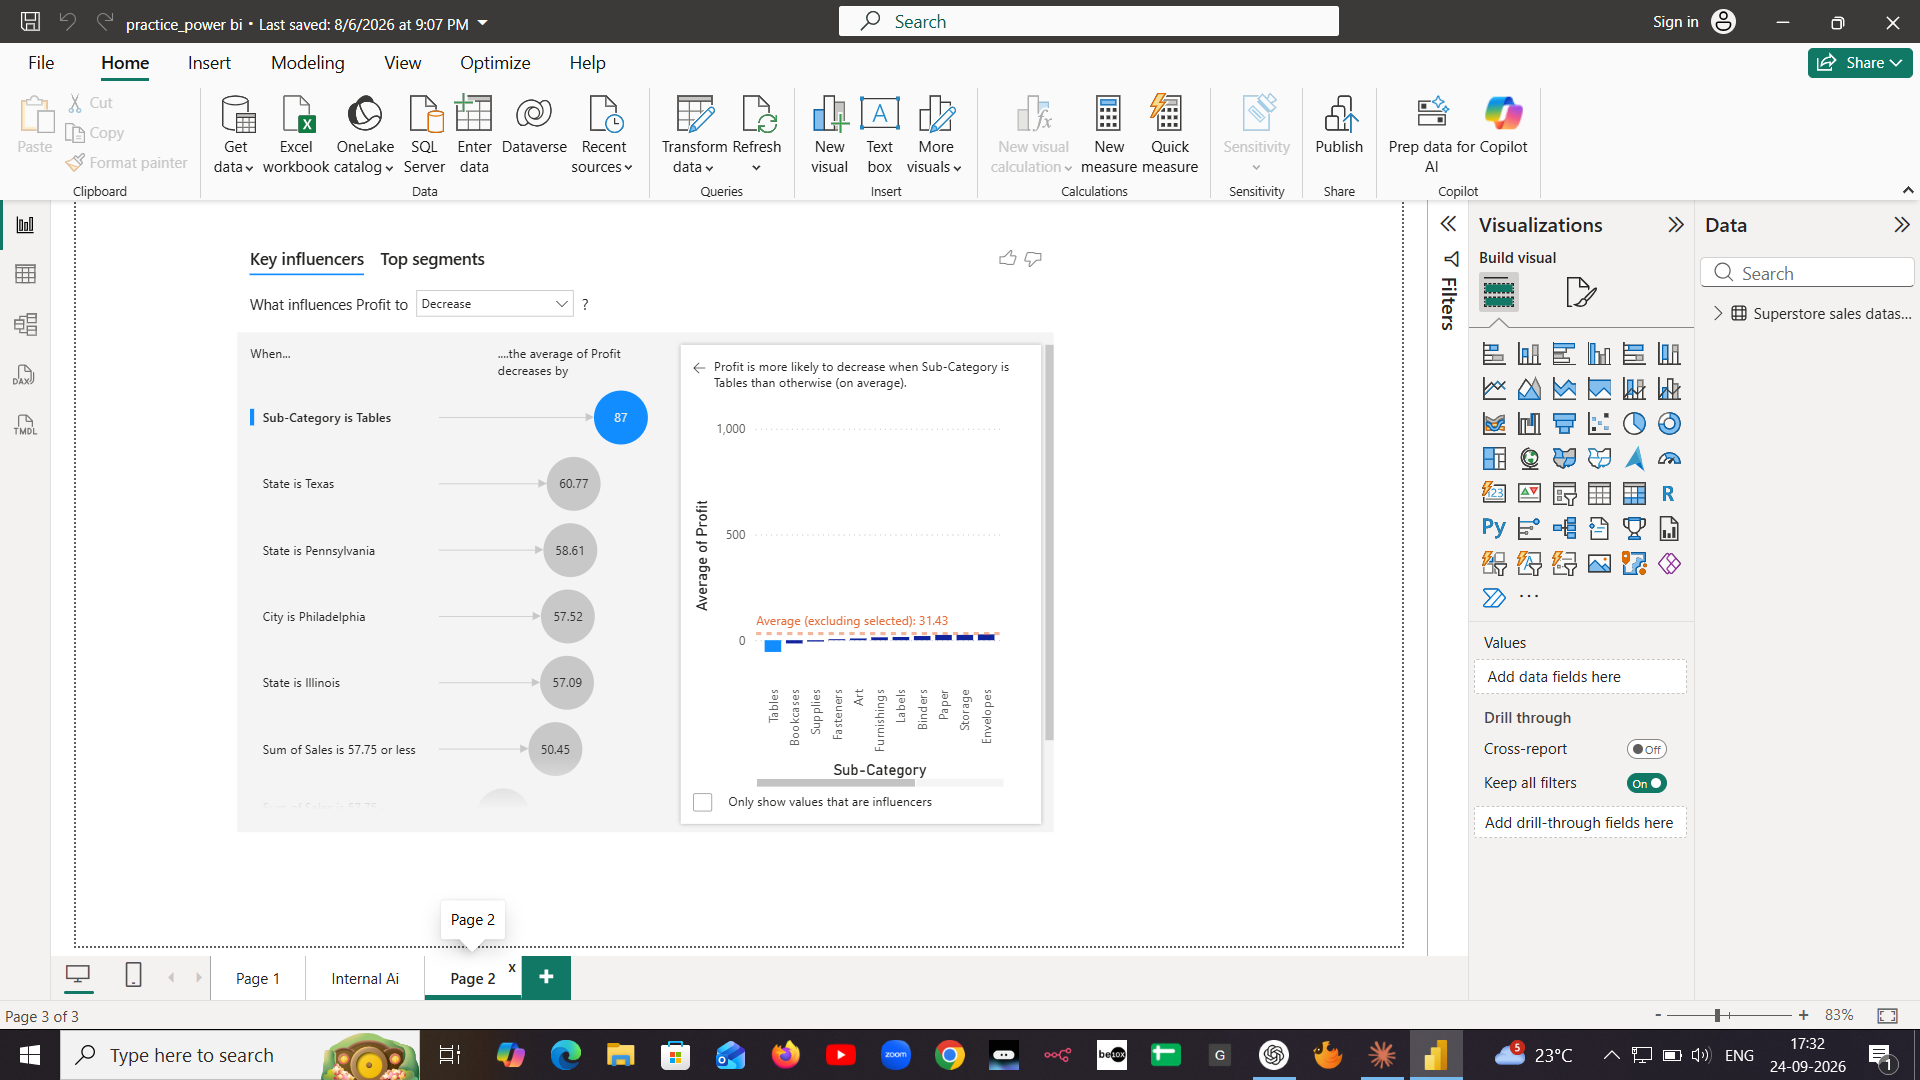

This screenshot's page, from the dashboard's own definition file:
{"tool":"powerbi","page":{"name":"Page 2","canvas":[1280,720],"ordinal":2},"visuals":[{"type":"keyDriversVisual","fields":{"Target":["Superstore sales dataset.Profit"],"ExplainBy":["Superstore sales dataset.State","Superstore sales dataset.City","Superstore sales dataset.Ship Mode","Superstore sales dataset.Category","Superstore sales dataset.Sub-Category","Superstore sales dataset.Product Name","Superstore sales dataset.Region","Sum(Superstore sales dataset.Sales)"]},"box":[150.8,32.6,797.5,582.7],"z":0}]}

Visuals, with their boxes on the page's 1280x720 design canvas (x1, y1, x2, y2). These are canvas units, not pixel positions in the 1920x1080 screenshot, which may show the page scaled, cropped or inside an application window:
keyDriversVisual - Superstore sales dataset.Profit x Superstore sales dataset.State: Rect(151, 33, 948, 615)
